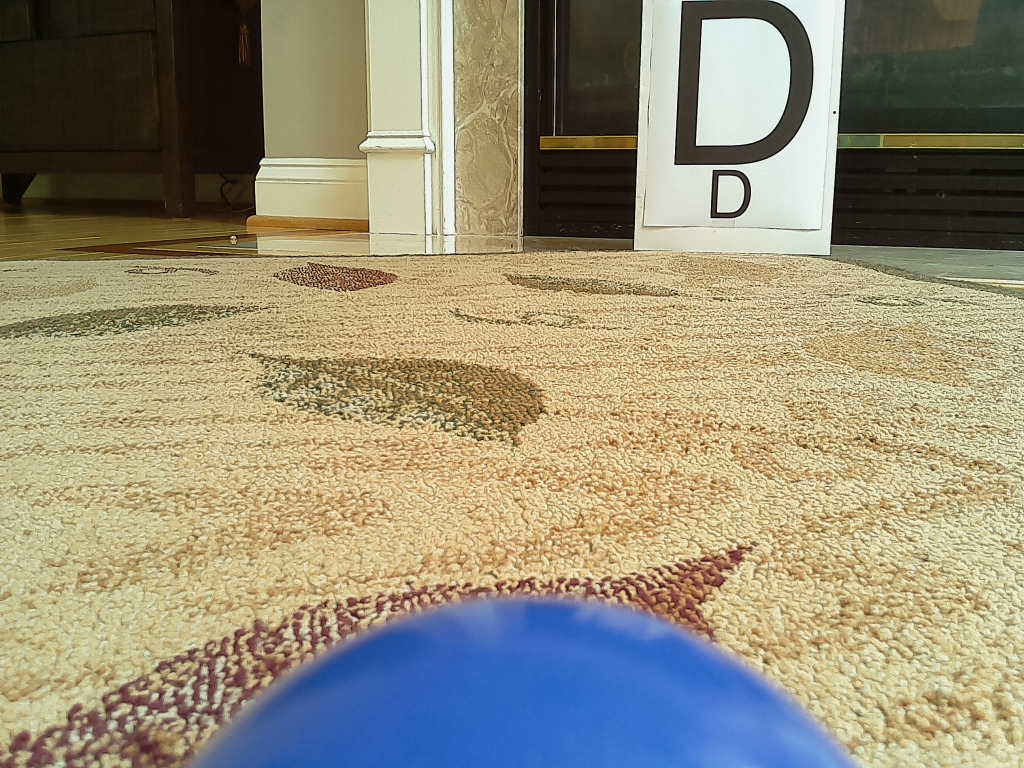letter: (680, 1, 813, 165)
